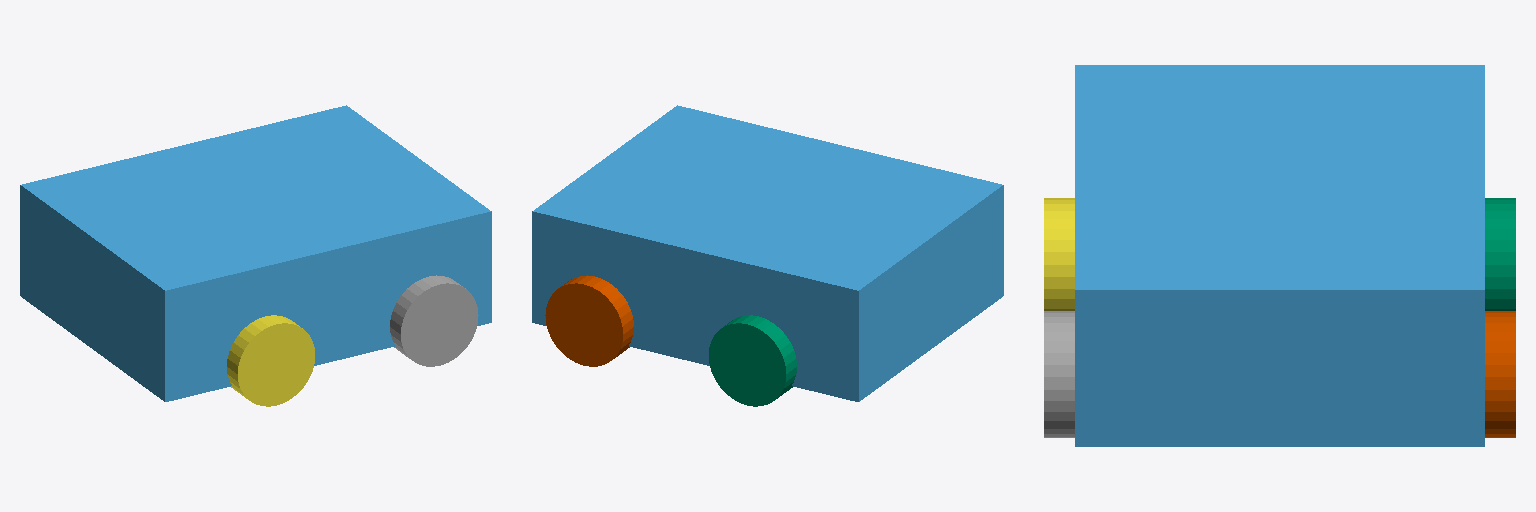
The robot description file, URDF, robot "car_ackermann":
<?xml version="1.0"?>
<!--
  Example URDF of the "car_ackermann" MVSim vehicle (class "ackermann"), as it
  could be used for Gazebo or real hardware: its <ros2_control> block names
  another hardware plugin, but MVSim binds its joints to the simulated ones by
  name. base_link is at the rear axle center, as the odometry of the steering
  controllers expects. Each front wheel hangs from its steering joint.
  Used by demo_ros2_control.launch.py with vehicle:=car_ackermann robot_description:=urdf
-->
<robot name="car_ackermann">
  <link name="base_link"/>
  <link name="chassis_link">
    <visual><origin xyz="0.5 0 0"/><geometry><box size="2.6 2.0 0.85"/></geometry></visual>
  </link>
  <joint name="chassis_joint" type="fixed">
    <parent link="base_link"/><child link="chassis_link"/>
    <origin xyz="0 0 0.575" rpy="0 0 0"/>
  </joint>

  <!-- Rear wheels -->
  <link name="rl_wheel">
    <visual><origin rpy="1.5708 0 0"/><geometry><cylinder radius="0.31" length="0.3"/></geometry></visual>
  </link>
  <joint name="rl_wheel_joint" type="continuous">
    <parent link="base_link"/><child link="rl_wheel"/>
    <origin xyz="0 1.0 0.31" rpy="0 0 0"/>
    <axis xyz="0 1 0"/>
  </joint>
  <link name="rr_wheel">
    <visual><origin rpy="1.5708 0 0"/><geometry><cylinder radius="0.31" length="0.3"/></geometry></visual>
  </link>
  <joint name="rr_wheel_joint" type="continuous">
    <parent link="base_link"/><child link="rr_wheel"/>
    <origin xyz="0 -1.0 0.31" rpy="0 0 0"/>
    <axis xyz="0 1 0"/>
  </joint>

  <!-- Front wheels: steering joint, then spin. Angle limits: the inner wheel angle
       when turning toward the side of the wheel, the outer one otherwise -->
  <link name="fl_steer"/>
  <joint name="fl_steer_joint" type="revolute">
    <parent link="base_link"/><child link="fl_steer"/>
    <origin xyz="1.3 1.0 0.31" rpy="0 0 0"/>
    <axis xyz="0 0 1"/>
    <limit lower="-0.3804" upper="0.8044" effort="1000" velocity="1.0472"/>
  </joint>
  <link name="fl_wheel">
    <visual><origin rpy="1.5708 0 0"/><geometry><cylinder radius="0.31" length="0.3"/></geometry></visual>
  </link>
  <joint name="fl_wheel_joint" type="continuous">
    <parent link="fl_steer"/><child link="fl_wheel"/>
    <axis xyz="0 1 0"/>
  </joint>
  <link name="fr_steer"/>
  <joint name="fr_steer_joint" type="revolute">
    <parent link="base_link"/><child link="fr_steer"/>
    <origin xyz="1.3 -1.0 0.31" rpy="0 0 0"/>
    <axis xyz="0 0 1"/>
    <limit lower="-0.8044" upper="0.3804" effort="1000" velocity="1.0472"/>
  </joint>
  <link name="fr_wheel">
    <visual><origin rpy="1.5708 0 0"/><geometry><cylinder radius="0.31" length="0.3"/></geometry></visual>
  </link>
  <joint name="fr_wheel_joint" type="continuous">
    <parent link="fr_steer"/><child link="fr_wheel"/>
    <axis xyz="0 1 0"/>
  </joint>

  <link name="laser1"/>
  <joint name="laser1_joint" type="fixed">
    <parent link="base_link"/><child link="laser1"/>
    <origin xyz="1.8 0 1.1" rpy="0 0 0"/>
  </joint>

  <ros2_control name="GazeboSimSystem" type="system">
    <hardware>
      <plugin>gz_ros2_control/GazeboSimSystem</plugin>
    </hardware>
    <!-- Traction: rear wheels -->
    <joint name="rl_wheel_joint">
      <command_interface name="velocity"/>
      <state_interface name="position"/>
      <state_interface name="velocity"/>
    </joint>
    <joint name="rr_wheel_joint">
      <command_interface name="velocity"/>
      <state_interface name="position"/>
      <state_interface name="velocity"/>
    </joint>
    <!-- Steering -->
    <joint name="fl_steer_joint">
      <command_interface name="position"/>
      <state_interface name="position"/>
    </joint>
    <joint name="fr_steer_joint">
      <command_interface name="position"/>
      <state_interface name="position"/>
    </joint>
    <!-- Free (not driven) front wheels: state only, for joint_state_broadcaster -->
    <joint name="fl_wheel_joint">
      <state_interface name="position"/>
      <state_interface name="velocity"/>
    </joint>
    <joint name="fr_wheel_joint">
      <state_interface name="position"/>
      <state_interface name="velocity"/>
    </joint>
  </ros2_control>
</robot>

--- What the picture shows (computed from the rendered views, not written in the file) ---
Views: 3 orthographic renders of the robot side by side, from view 1: azimuth 30°, elevation 25°; view 2: azimuth 150°, elevation 25°; view 3: azimuth 270°, elevation 25°.
Model car_ackermann with 9 links and 8 joints (2 revolute, 4 continuous, 2 fixed), rooted at base_link, posed every joint at zero.
Visible links, largest first — view 1: chassis_link, rr_wheel, fr_wheel; view 2: chassis_link, rl_wheel, fl_wheel; view 3: chassis_link, fl_wheel, fr_wheel, rl_wheel, rr_wheel.
Link boxes in pixels (box(x1,y1,x2,y2)): chassis_link: box(20, 105, 491, 401); rr_wheel: box(227, 315, 314, 406); fr_wheel: box(390, 275, 478, 366); chassis_link: box(532, 105, 1003, 401); rl_wheel: box(709, 315, 796, 406); fl_wheel: box(545, 275, 633, 366); chassis_link: box(1075, 65, 1484, 446); fl_wheel: box(1485, 311, 1515, 437); fr_wheel: box(1044, 311, 1074, 437); rl_wheel: box(1485, 198, 1515, 310); rr_wheel: box(1044, 198, 1074, 310).
Size in the robot's own frame: 2.6 by 2.3 by 1 metres.
Geometry: primitives only (box / cylinder / sphere), no mesh files.
